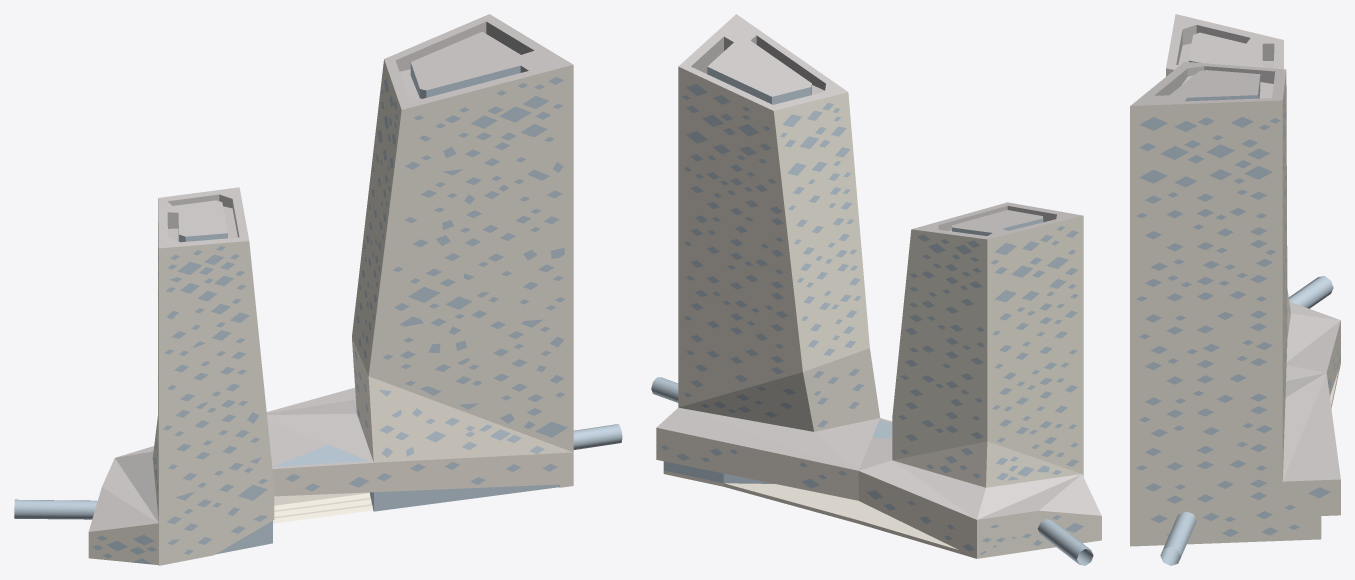
The picture shows the model from 3 angles, left to right: view 1: azimuth 30°, elevation 25°; view 2: azimuth 150°, elevation 25°; view 3: azimuth 270°, elevation 25°; orthographic projection. The views are drawn at different scales.
Visible parts, largest first — view 1: 70030076431362735lod; view 2: 70030076431362735lod; view 3: 70030076431362735lod.
Boxes of the visible parts, x1,y1,x2,y2 form: 70030076431362735lod: (14, 14, 622, 565); 70030076431362735lod: (651, 14, 1101, 565); 70030076431362735lod: (1130, 14, 1340, 565).
Bounding box in the file's own units: 167 × 125 × 54.43.
Materials: 1 (1 with a texture image).
